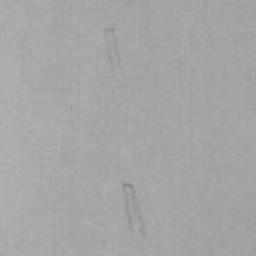Water spot: (120, 180, 146, 246), (102, 24, 123, 76)
